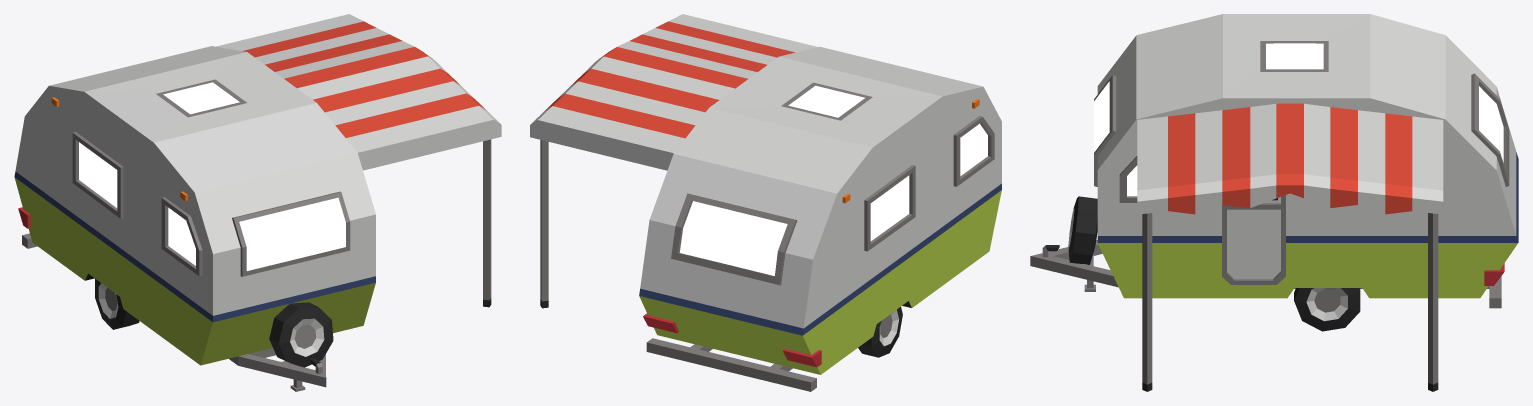
File: vehicles-car-caravan-small-standing-b.glb
3 views of the same model, side by side, from view 1: azimuth 30°, elevation 25°; view 2: azimuth 150°, elevation 25°; view 3: azimuth 270°, elevation 25° (orthographic). The views are drawn at different scales.
Parts seen in each view (by area): view 1: car-caravan-small-standing-b; view 2: car-caravan-small-standing-b; view 3: car-caravan-small-standing-b.
Boxes of the visible parts, x1,y1,x2,y2 form: car-caravan-small-standing-b: [14, 14, 501, 391]; car-caravan-small-standing-b: [530, 14, 1001, 391]; car-caravan-small-standing-b: [1030, 14, 1518, 391].
Size of the model in its own units: 4 by 2.8 by 5.14.
